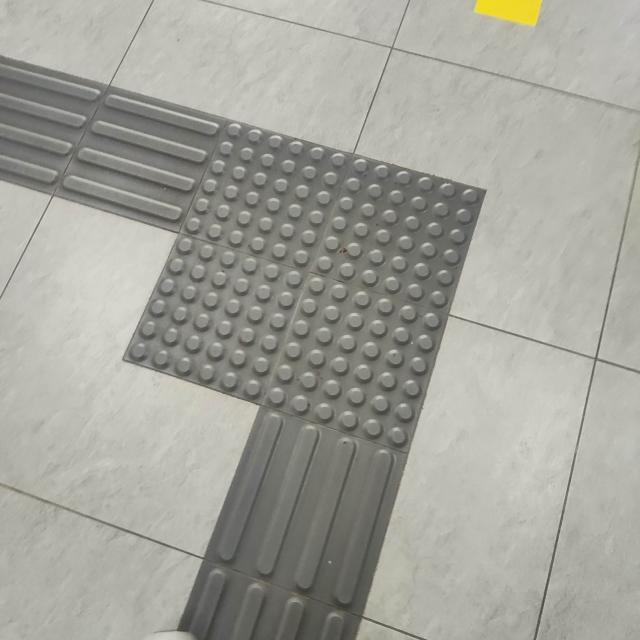kiri: (0, 30, 537, 496)
